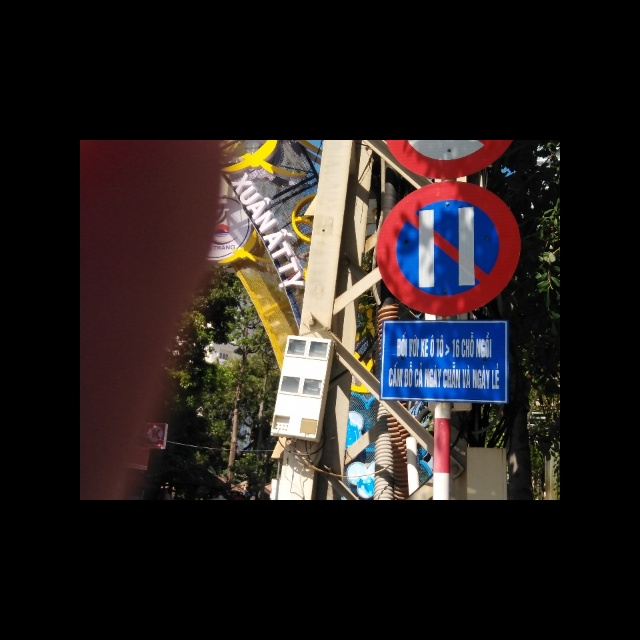Cấm đỗ xe ngày chẵn: (376, 179, 522, 320)
